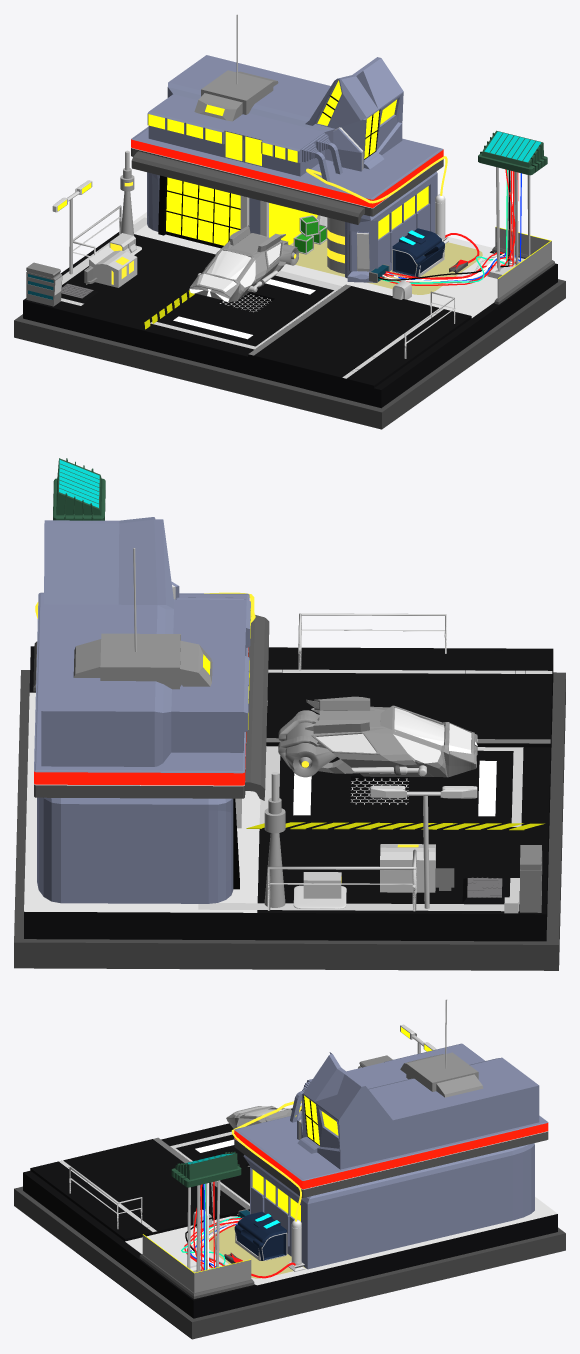
File: fly.glb
3 renders of one model, top to bottom at view 1: azimuth 30°, elevation 25°; view 2: azimuth 150°, elevation 25°; view 3: azimuth 270°, elevation 25°, orthographic. The views are drawn at different scales.
Visible parts, largest first — view 1: Cube.008, Cube.025, Cube.004, Cube.043, Cube.022, Cube.009, Cube.023, Cube.065, Cube.024, Cube.036, Cube.006, Cube (+17 smaller); view 2: Cube.008, Cube.025, Cube.004, Cube.009, Cube.022, Cube.065, Cube.036, Cube, Cube.023, Cube.082, Cube.024, Cylinder (+18 smaller); view 3: Cube.008, Cube.009, Cube.025, Cube.004, Cube.023, Cube.065, Cube.022, Cube.024, Cube.036, Cube.038, Cube.012, Cube.040 (+5 smaller).
Boxes of the visible parts, x1,y1,x2,y2 form: Cube.008: (23,232,557,408); Cube.025: (147,55,403,181); Cube.004: (14,279,565,429); Cube.043: (57,80,428,245); Cube.022: (131,148,443,224); Cube.009: (147,171,437,282); Cube.023: (131,126,443,199); Cube.065: (133,212,504,317); Cube.024: (131,139,443,207); Cube.036: (194,70,278,121); Cube.006: (290,240,482,294); Cube: (189,233,285,302); Cube.008: (24,646,553,941); Cube.025: (41,517,250,766); Cube.004: (14,670,565,970); Cube.009: (37,797,233,903); Cube.022: (34,615,269,800); Cube.065: (24,692,260,912); Cube.036: (73,633,212,689); Cube: (311,705,477,777); Cube.023: (34,592,249,773); Cube.082: (316,707,471,763); Cube.024: (34,647,248,785); Cylinder: (278,710,336,777); Cube.008: (23,1108,557,1318); Cube.009: (243,1143,534,1269); Cube.025: (290,1043,539,1169); Cube.004: (14,1186,565,1339); Cube.023: (234,1113,548,1180); Cube.065: (125,1197,557,1285); Cube.022: (234,1131,548,1197); Cube.024: (234,1123,548,1189); Cube.036: (400,1052,483,1097); Cube.038: (142,1235,251,1292); Cube.012: (234,1211,286,1260); Cube.040: (171,1151,241,1187).
Bounding box in the file's own units: 30.49 × 15.39 × 31.96.
